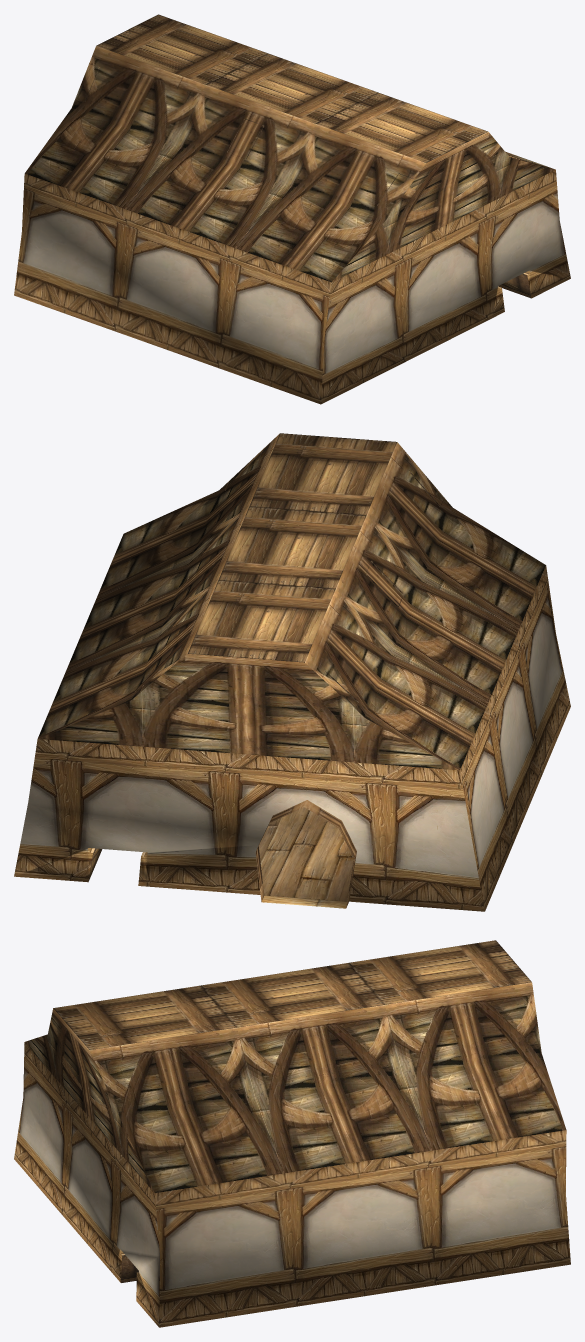
File: stormwind_191.fbx
3 renders of one model, top to bottom at view 1: azimuth 30°, elevation 25°; view 2: azimuth 150°, elevation 25°; view 3: azimuth 270°, elevation 25°, orthographic. The views are drawn at different scales.
Parts seen in each view (by area): view 1: stormwind_191_48, stormwind_191_49, stormwind_191_55; view 2: stormwind_191_49, stormwind_191_48, stormwind_191_55, stormwind_191_51, stormwind_191_53; view 3: stormwind_191_48, stormwind_191_49, stormwind_191_55.
Boxes of the visible parts, x1,y1,x2,y2 form: stormwind_191_48: [14, 169, 570, 404]; stormwind_191_49: [25, 46, 555, 282]; stormwind_191_55: [96, 14, 487, 162]; stormwind_191_49: [37, 433, 545, 907]; stormwind_191_48: [14, 565, 570, 911]; stormwind_191_55: [187, 433, 396, 662]; stormwind_191_51: [258, 807, 353, 901]; stormwind_191_53: [140, 459, 444, 908]; stormwind_191_48: [14, 1042, 570, 1327]; stormwind_191_49: [25, 982, 566, 1193]; stormwind_191_55: [53, 940, 531, 1049].
Bounding box in the file's own units: 19.44 × 8.55 × 19.73.
